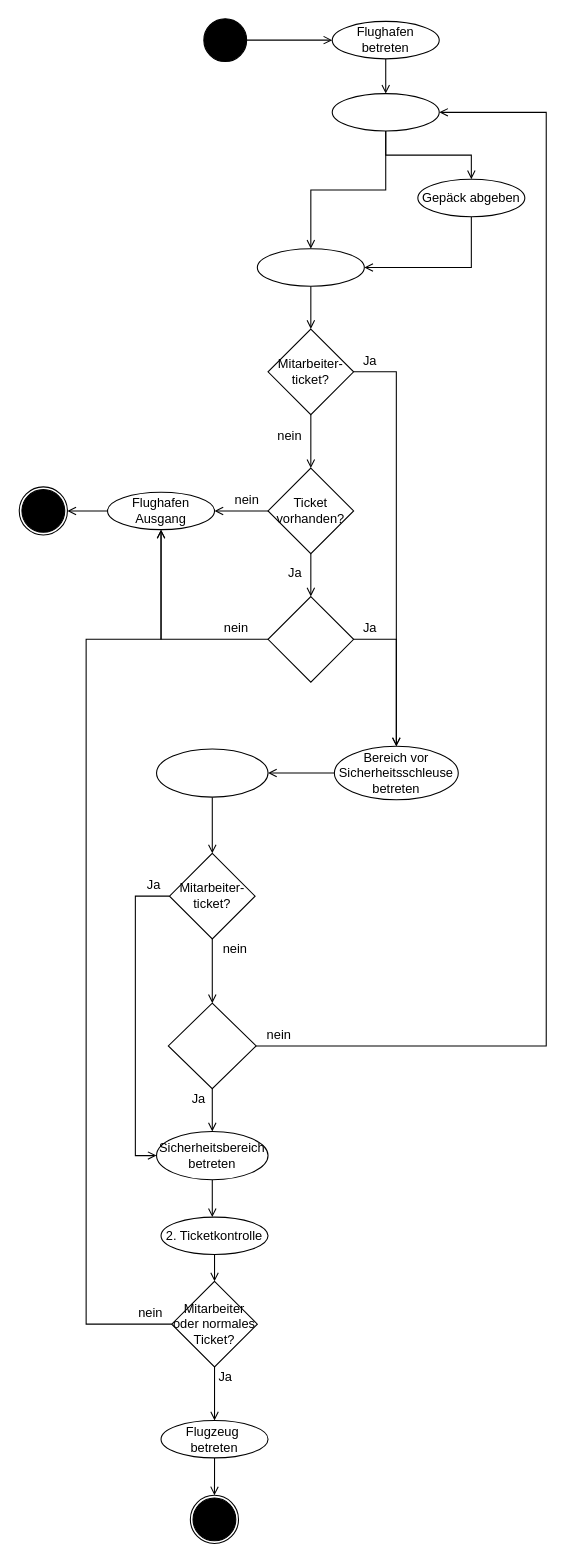
Some shapes in this 574 by 1562 pixel diagram are drawn without their labels. Each missing label, with the centre of its shape:
"1. Ticketkontrolle" goes at point 310,267.
"Corona Zertifkat vorhanden?" goes at point 310,638.
"Gepäck abgegeben?" goes at point 211,1045.
"Lobby betreten" goes at point 385,112.
"Sicherheitsschleuse" goes at point 211,772.
